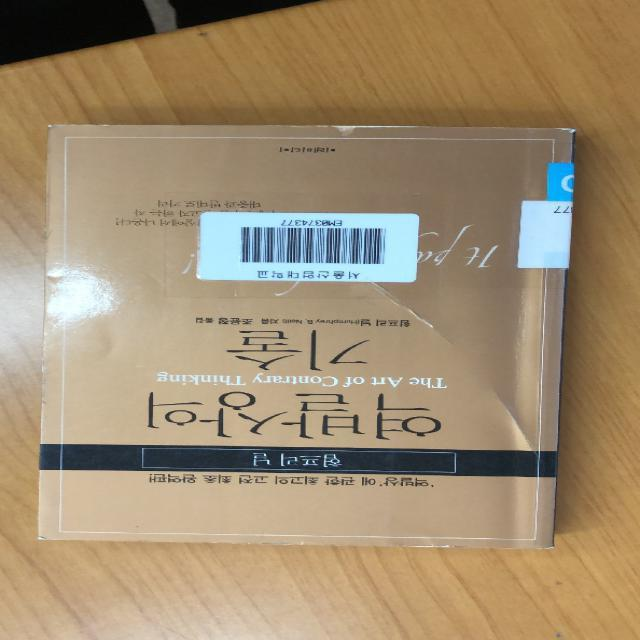Ripped: (262, 121, 435, 137)
Wornout: (393, 531, 470, 552), (528, 124, 580, 144)
